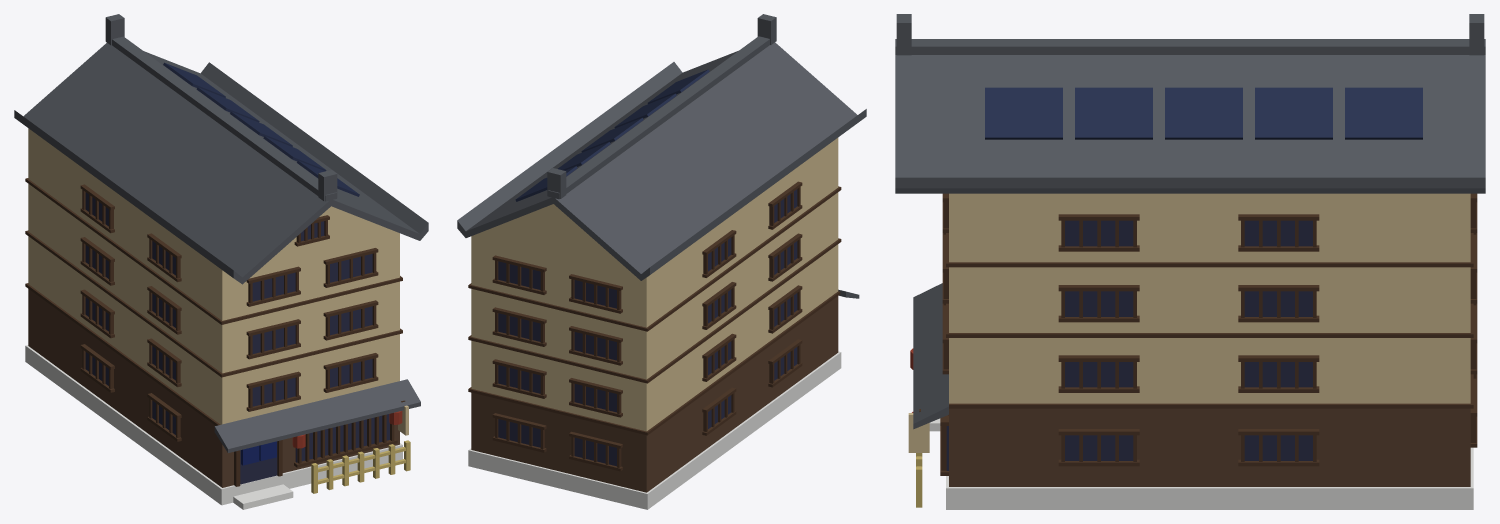
The model's file is house-1x2-4f-machiya-a-solar.glb.
3 views of the same model, side by side, from view 1: azimuth 30°, elevation 25°; view 2: azimuth 150°, elevation 25°; view 3: azimuth 270°, elevation 25° (orthographic). The views are drawn at different scales.
Visible parts, largest first — view 1: house-1x2-4f-machiya-a-solar; view 2: house-1x2-4f-machiya-a-solar; view 3: house-1x2-4f-machiya-a-solar.
Part boxes in pixels (bbox=[...]): house-1x2-4f-machiya-a-solar: bbox=[14, 14, 428, 509]; house-1x2-4f-machiya-a-solar: bbox=[457, 14, 866, 509]; house-1x2-4f-machiya-a-solar: bbox=[895, 14, 1485, 509].
Bounding box in the file's own units: 1.01 × 1.59 × 1.97.
Materials: 1 (1 with a texture image).
